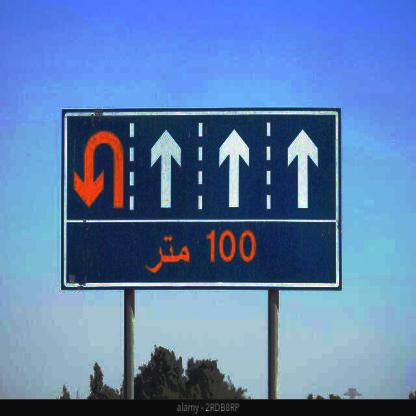U-turn: (65, 110, 130, 216)
